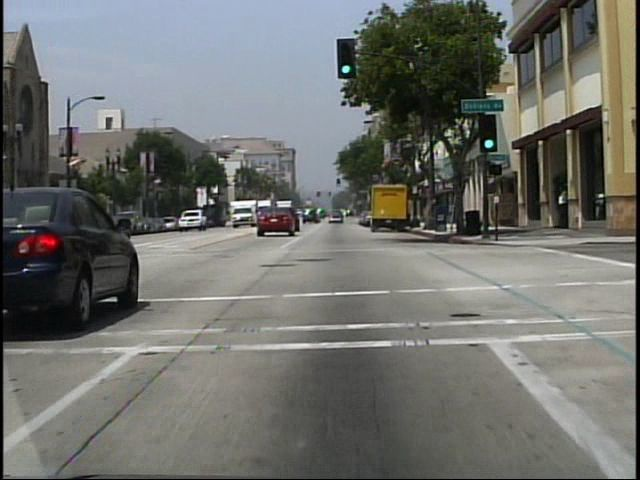person: (557, 191, 568, 230)
